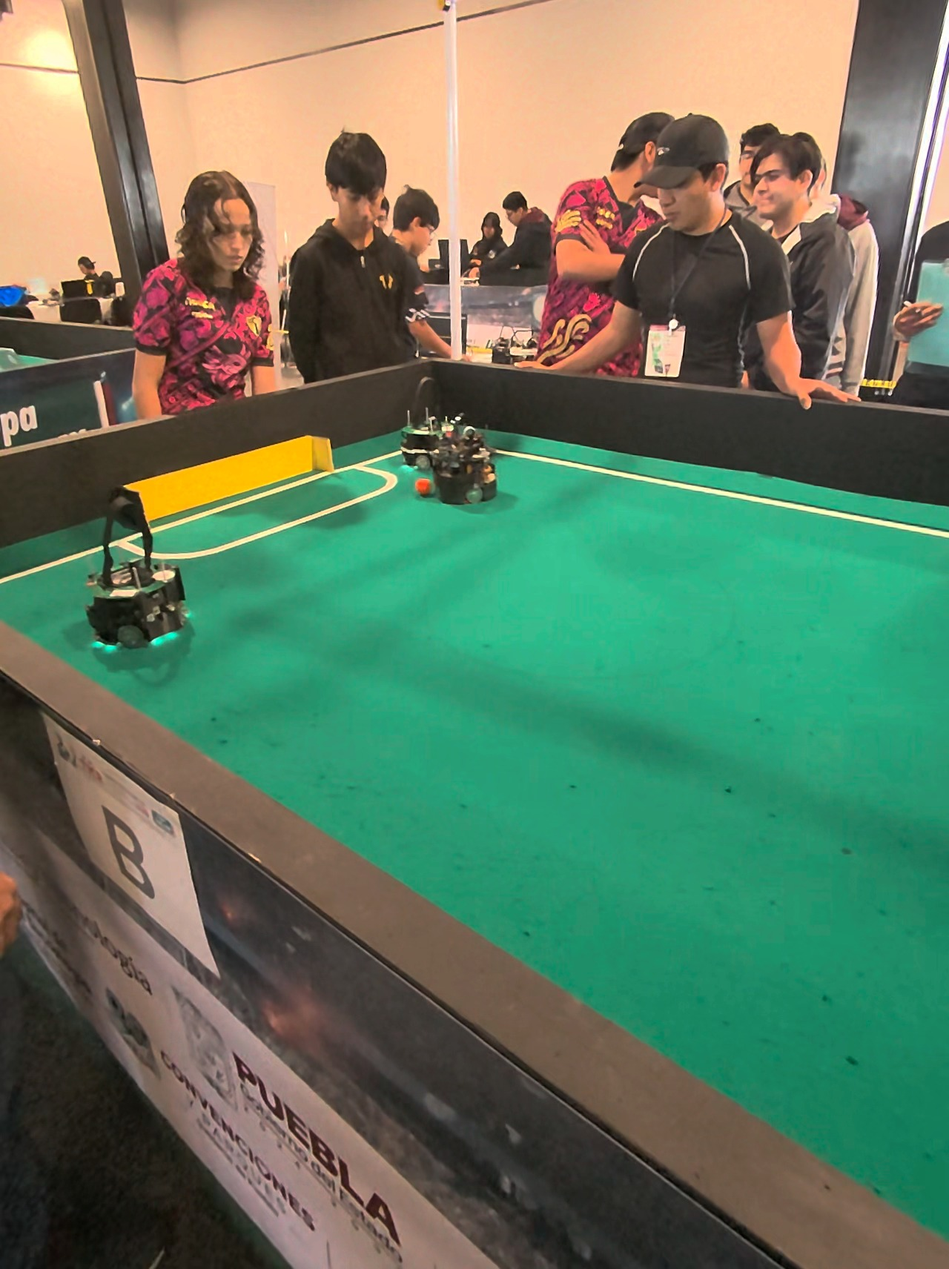Robot: (77, 484, 196, 670), (432, 415, 500, 510), (396, 367, 453, 469)
pelota: (413, 477, 432, 497)
